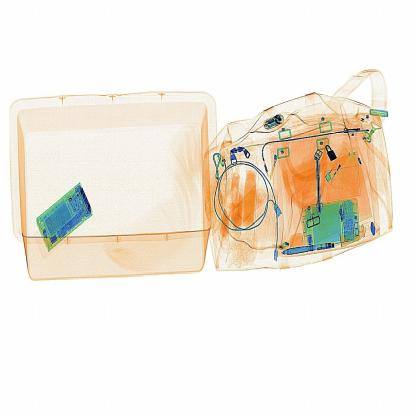knife: (305, 141, 328, 219)
